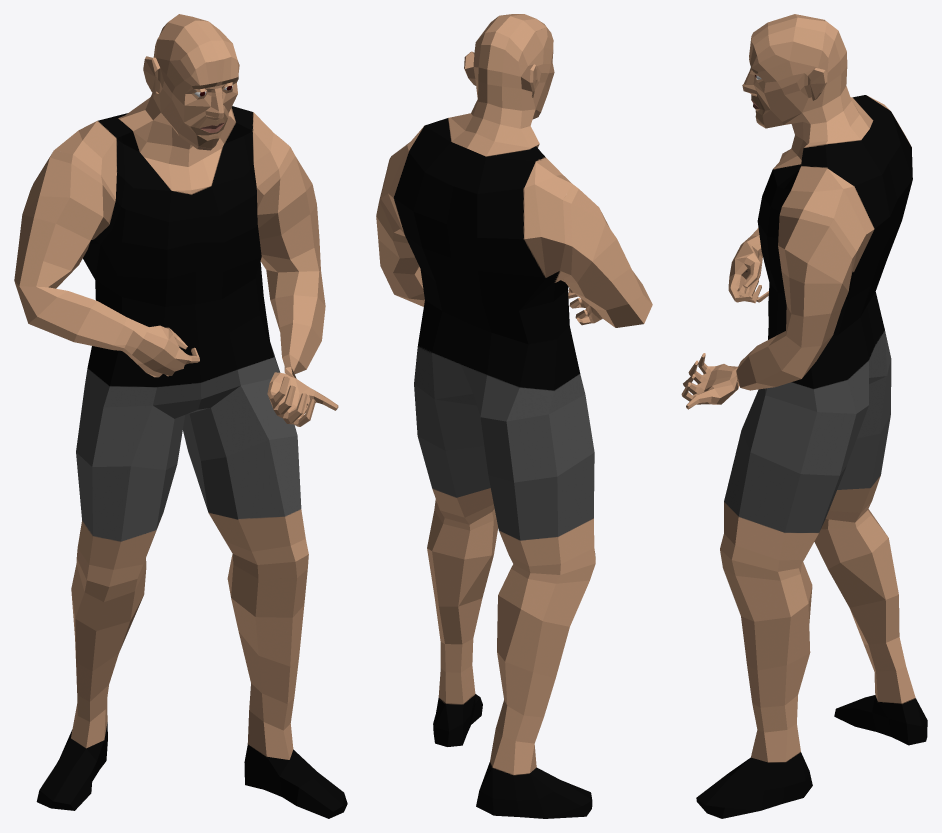
File: PlayerIdle(195).obj
The picture shows the model from 3 angles, left to right: view 1: azimuth 30°, elevation 25°; view 2: azimuth 150°, elevation 25°; view 3: azimuth 270°, elevation 25°; orthographic projection. The views are drawn at different scales.
Visible parts, largest first — view 1: Plane002; view 2: Plane002; view 3: Plane002.
Boxes of the visible parts, x1,y1,x2,y2 form: Plane002: (14, 14, 347, 818); Plane002: (376, 14, 652, 818); Plane002: (681, 14, 927, 818).
Bounding box in the file's own units: 687 × 1799 × 536.
